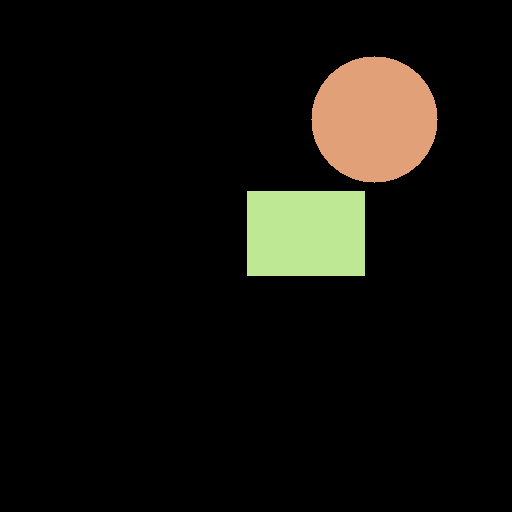circle: (311, 56, 437, 182)
rectangle: (247, 191, 364, 275)
